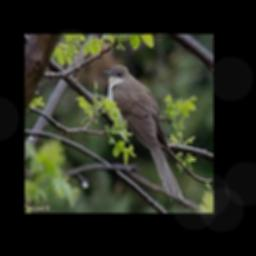Cuckoo: (102, 64, 184, 202)
